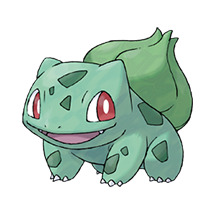001-bulbasaur: (20, 13, 197, 197)
